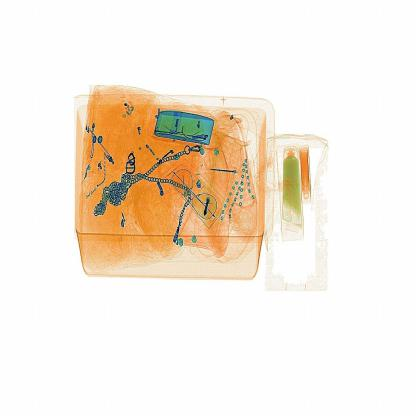wrench: (199, 157, 243, 184)
